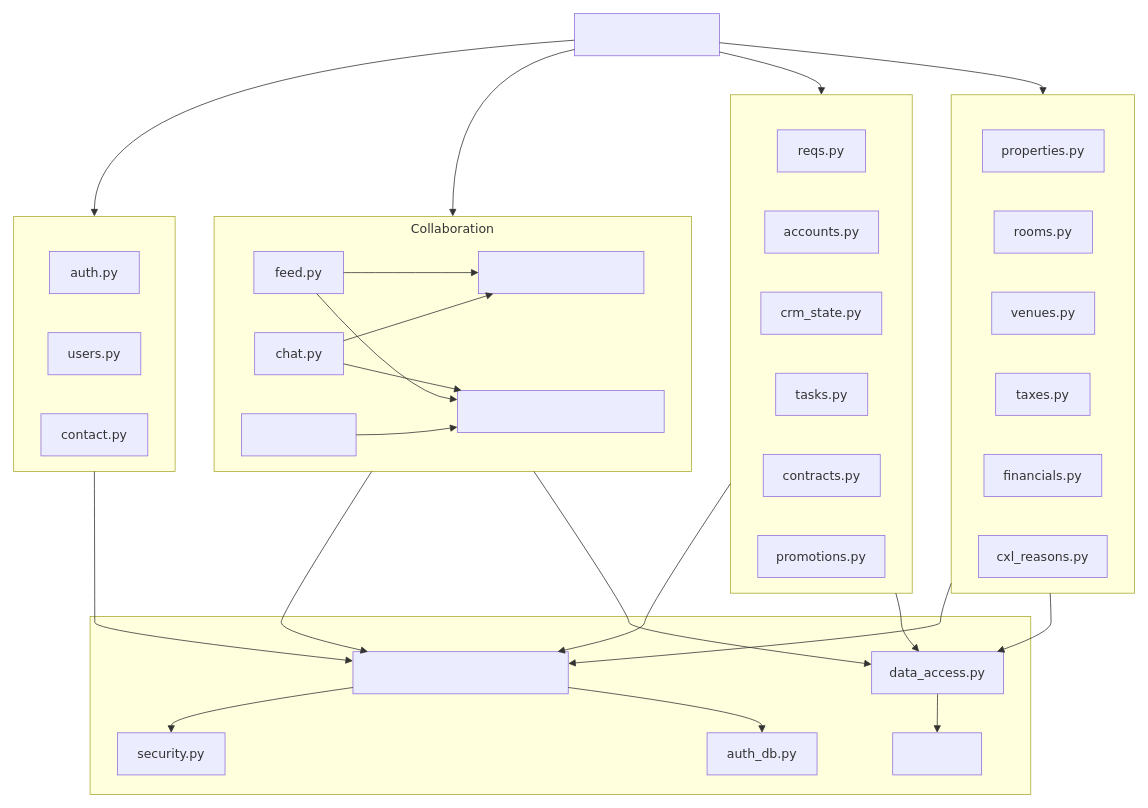
The diagram is 1148 pixels wide and 808 high, and some of its shapes have lost their labels. Here are the shapes that lost their labels. From the top down, the box of each, then its label:
(574, 13, 720, 56): backend/main.py
(478, 251, 644, 294): uploads.py local files
(13, 216, 175, 472): Auth and users
(730, 94, 912, 593): Operations
(950, 94, 1135, 593): Property config
(457, 390, 664, 433): ws.py + websocket_manager
(241, 413, 356, 456): presence.py
(352, 651, 568, 694): dependencies.py require_user
(89, 616, 1031, 794): Shared backend core
(892, 732, 982, 775): utils.py
